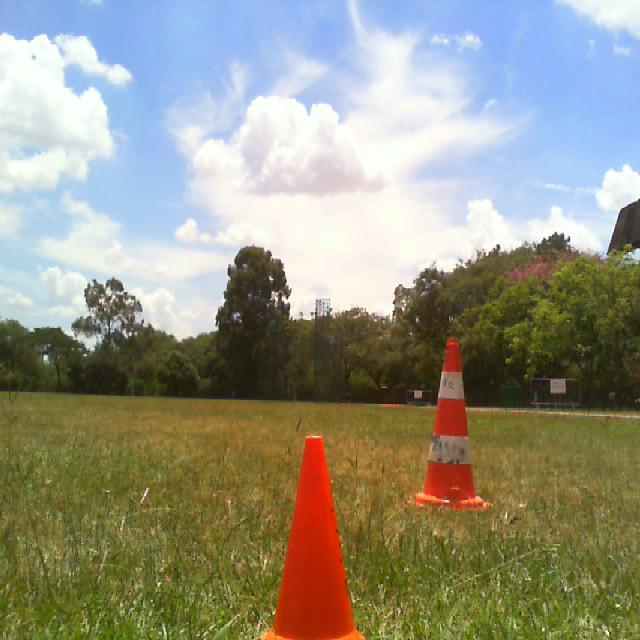cone: (256, 434, 362, 638), (408, 338, 494, 511)
